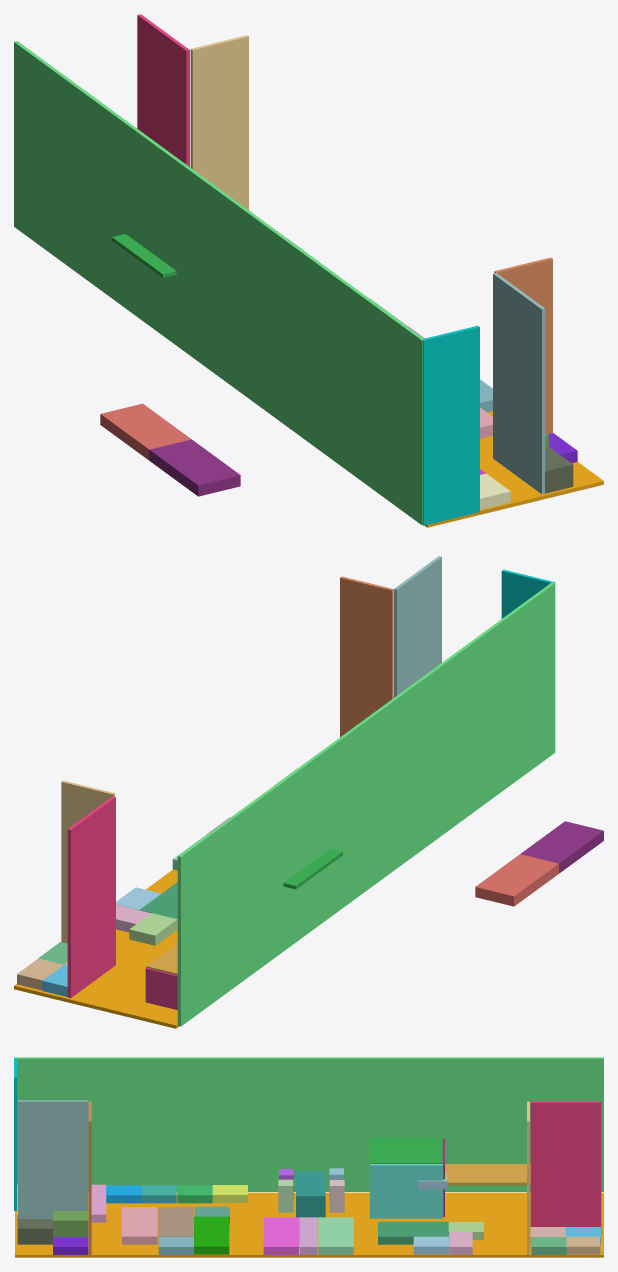
Rendered from ifex-2027-design-booth.glb.
3 views of the same model, one above another, from view 1: azimuth 30°, elevation 25°; view 2: azimuth 150°, elevation 25°; view 3: azimuth 270°, elevation 25° (orthographic). The views are drawn at different scales.
Parts seen in each view (by area): view 1: Tembok-utama, Cube.035, Cube.005, Cube.003, Cube.026, Cube.010, Cube.022, Cube, Cube.024, Cube.006, Atap-ndelik, Cube.001; view 2: Tembok-utama, Cube.026, Cube.022, Cube, Cube.005, Cube.024, Cube.003, Cube.010, Cube.035, Meja.005, Cube.030, Cube.033 (+2 smaller); view 3: Tembok-utama, Cube, Cube.026, Cube.005, Meja.001, Atap-ndelik, Meja.002, Cube.028, Meja, Cube.015, Cube.014, Cube.025 (+26 smaller).
Boxes of the visible parts, x1=… form: Tembok-utama: x1=14, y1=41, x2=423, y2=525; Cube.035: x1=422, y1=325, x2=479, y2=525; Cube.005: x1=493, y1=272, x2=545, y2=494; Cube.003: x1=190, y1=35, x2=248, y2=209; Cube.026: x1=137, y1=14, x2=189, y2=166; Cube.010: x1=149, y1=439, x2=240, y2=496; Cube.022: x1=494, y1=257, x2=552, y2=434; Cube: x1=424, y1=411, x2=603, y2=527; Cube.024: x1=100, y1=403, x2=191, y2=460; Cube.006: x1=545, y1=447, x2=573, y2=493; Atap-ndelik: x1=112, y1=234, x2=176, y2=277; Cube.001: x1=480, y1=473, x2=510, y2=509; Tembok-utama: x1=177, y1=582, x2=555, y2=1026; Cube.026: x1=67, y1=796, x2=115, y2=997; Cube.022: x1=340, y1=576, x2=393, y2=736; Cube: x1=14, y1=869, x2=178, y2=1028; Cube.005: x1=394, y1=556, x2=441, y2=697; Cube.024: x1=475, y1=854, x2=558, y2=906; Cube.003: x1=61, y1=780, x2=114, y2=943; Cube.010: x1=520, y1=821, x2=603, y2=873; Cube.035: x1=501, y1=569, x2=555, y2=618; Meja.005: x1=145, y1=968, x2=177, y2=1009; Cube.030: x1=129, y1=913, x2=177, y2=945; Cube.033: x1=17, y1=958, x2=64, y2=990; Tembok-utama: x1=15, y1=1057, x2=603, y2=1191; Cube: x1=15, y1=1192, x2=603, y2=1257; Cube.026: x1=530, y1=1101, x2=601, y2=1234; Cube.005: x1=17, y1=1100, x2=88, y2=1218; Meja.001: x1=369, y1=1164, x2=443, y2=1218; Atap-ndelik: x1=369, y1=1138, x2=442, y2=1165; Meja.002: x1=445, y1=1164, x2=530, y2=1185; Cube.028: x1=378, y1=1221, x2=448, y2=1244; Meja: x1=296, y1=1171, x2=325, y2=1217; Cube.015: x1=194, y1=1216, x2=229, y2=1254; Cube.014: x1=122, y1=1207, x2=157, y2=1244; Cube.025: x1=263, y1=1217, x2=298, y2=1254.
Bounding box in the file's own units: 9077 × 5100 × 20037.
